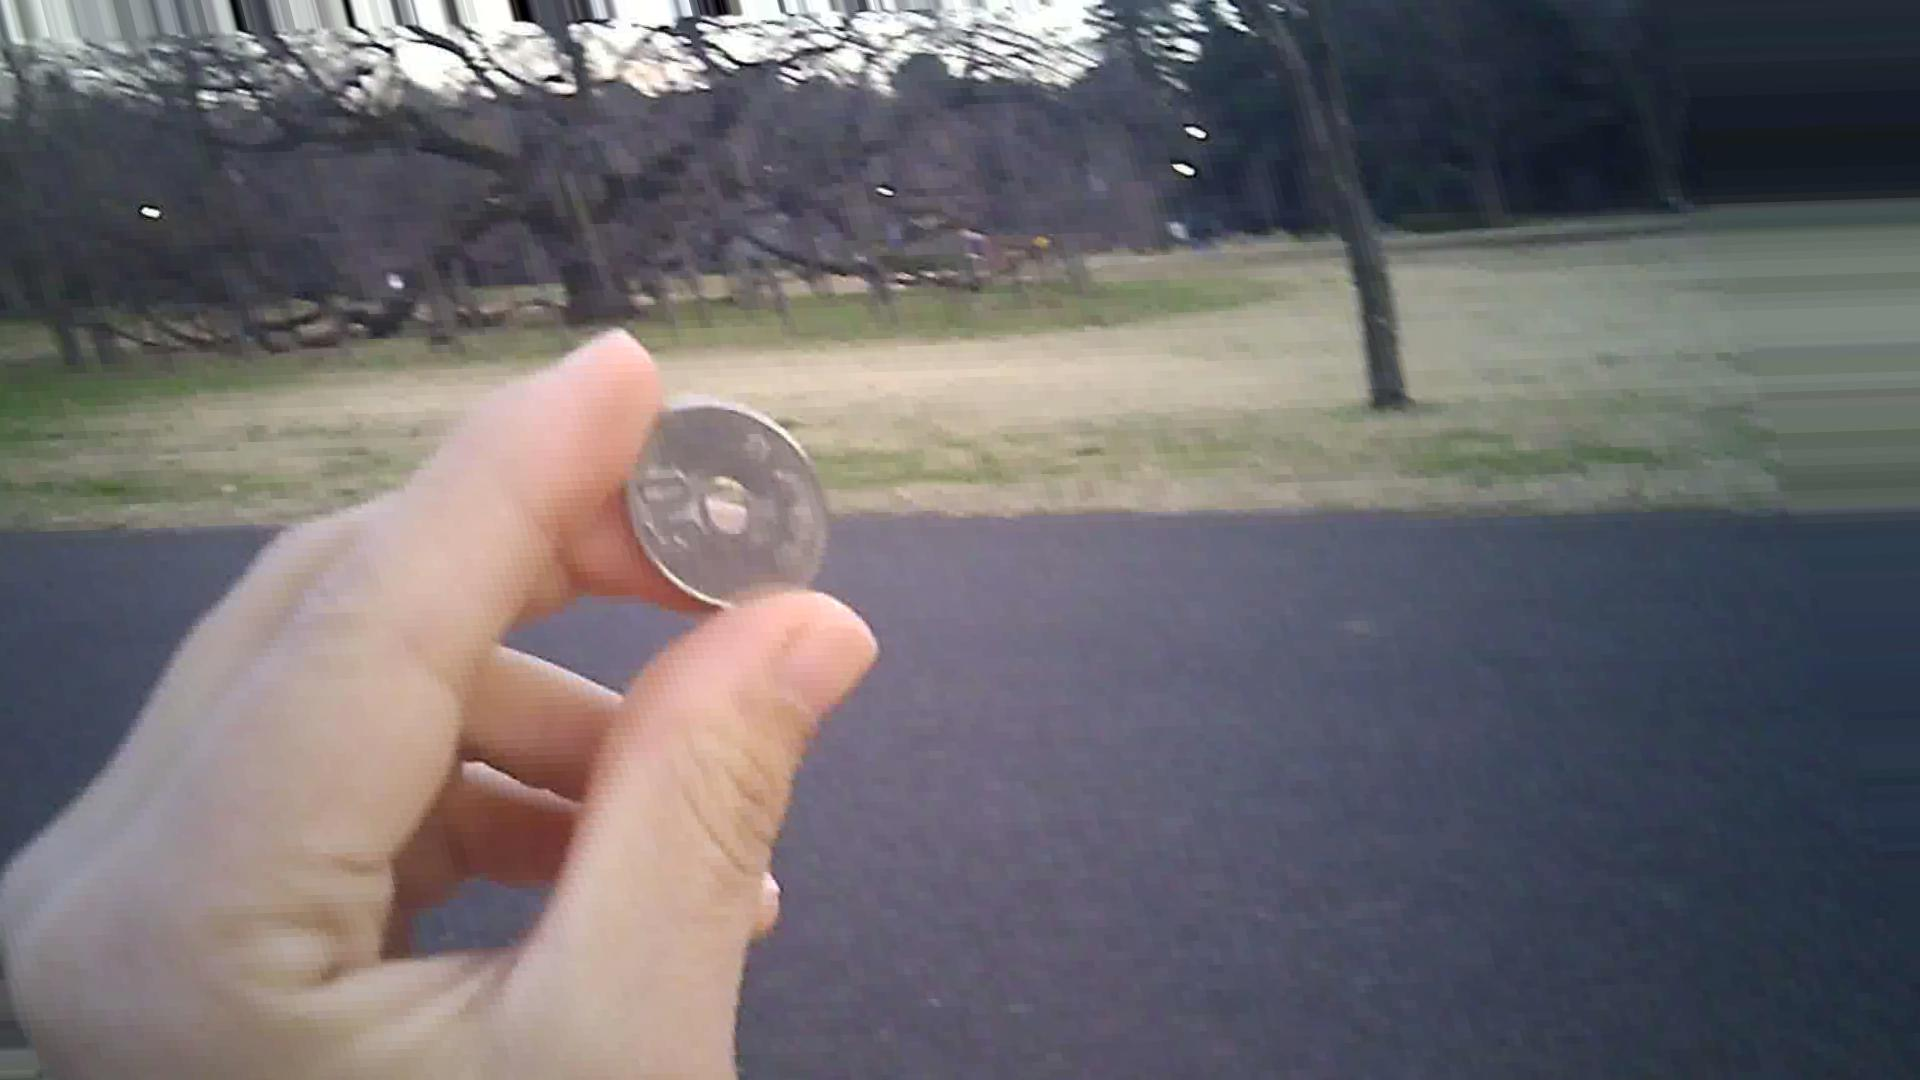50 Yen: (608, 375, 825, 616)
